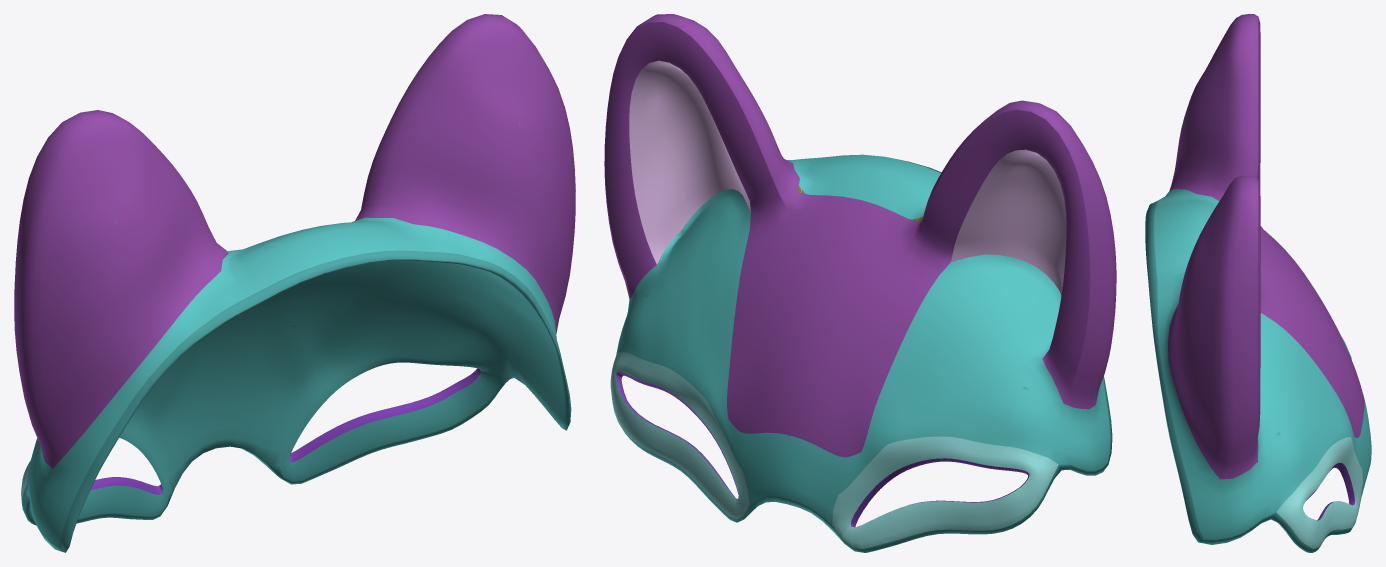
Rendered from enemymask.fbx.
3 renders of one model, left to right at view 1: azimuth 30°, elevation 25°; view 2: azimuth 150°, elevation 25°; view 3: azimuth 270°, elevation 25°, orthographic. The views are drawn at different scales.
Visible parts, largest first — view 1: U_EnemyMask; view 2: U_EnemyMask; view 3: U_EnemyMask.
Boxes of the visible parts, box(x1,y1,x2,y2) form: U_EnemyMask: box(14, 14, 575, 552); U_EnemyMask: box(604, 14, 1116, 552); U_EnemyMask: box(1145, 14, 1371, 552).
Size of the model in its own units: 1.64 by 1.36 by 0.6941.
